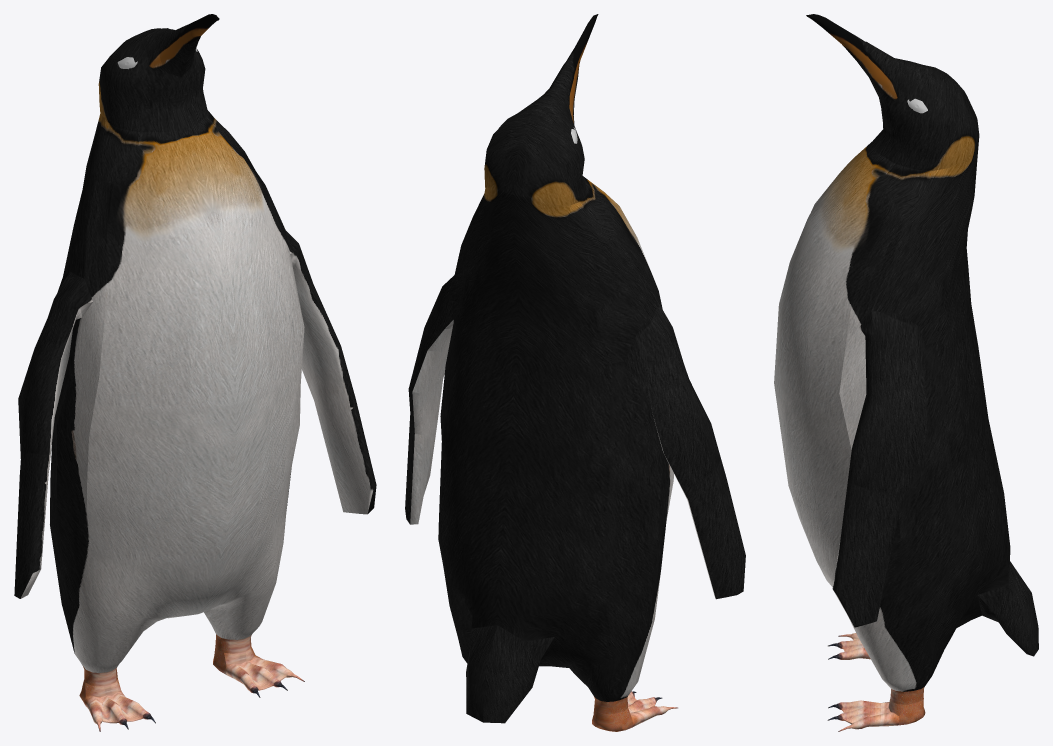
File: penguen.fbx
3 renders of one model, left to right at view 1: azimuth 30°, elevation 25°; view 2: azimuth 150°, elevation 25°; view 3: azimuth 270°, elevation 25°, orthographic. The views are drawn at different scales.
Visible parts, largest first — view 1: Box01; view 2: Box01; view 3: Box01.
Boxes of the visible parts, x1,y1,x2,y2 form: Box01: (14,14,376,731); Box01: (405,14,745,731); Box01: (774,14,1038,731).
Size of the model in its own units: 1663 by 3110 by 1110.
